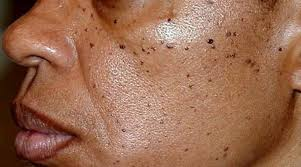Flek Hitam: (71, 4, 286, 161)
